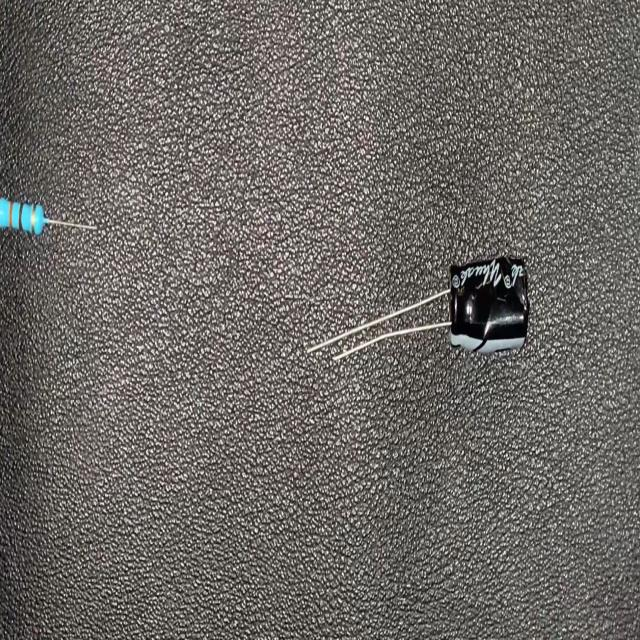capacitor: (304, 242, 532, 367)
cracked: (499, 249, 529, 312), (460, 278, 500, 324), (482, 302, 525, 333)
resistor: (0, 178, 99, 247)
